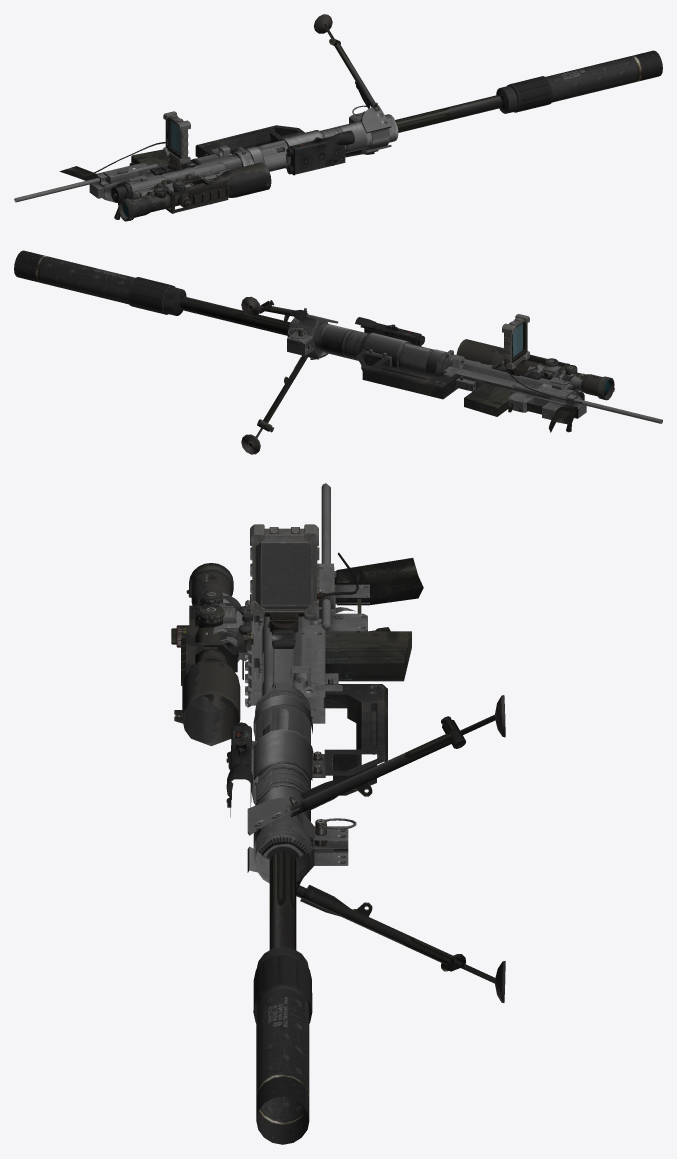
File: viewmodel_cheytac_orange_fall_LOD0.obj
The picture shows the model from 3 angles, top to bottom: view 1: azimuth 30°, elevation 25°; view 2: azimuth 150°, elevation 25°; view 3: azimuth 270°, elevation 25°; orthographic projection. The views are drawn at different scales.
Visible parts, largest first — view 1: mtl_weapon_cheytac_orange_fall, mtl_weapon_suppressor_b, mtl_weapon_scope01, mtl_weapon_laser_point, mtl_weapon_motion_tracker_orange_fall; view 2: mtl_weapon_cheytac_orange_fall, mtl_weapon_suppressor_b, mtl_weapon_scope01, mtl_weapon_motion_tracker_orange_fall, mtl_weapon_laser_point; view 3: mtl_weapon_cheytac_orange_fall, mtl_weapon_suppressor_b, mtl_weapon_scope01, mtl_weapon_motion_tracker_orange_fall, mtl_weapon_laser_point, mtl_weapon_thermal_sight_2_orange_fall.
Part boxes in pixels (left/top/right/bottom): mtl_weapon_cheytac_orange_fall: left=14, top=14, right=502, bottom=219; mtl_weapon_suppressor_b: left=496, top=50, right=662, bottom=113; mtl_weapon_scope01: left=128, top=162, right=271, bottom=220; mtl_weapon_laser_point: left=286, top=130, right=354, bottom=175; mtl_weapon_motion_tracker_orange_fall: left=85, top=111, right=200, bottom=177; mtl_weapon_cheytac_orange_fall: left=180, top=296, right=662, bottom=454; mtl_weapon_suppressor_b: left=14, top=250, right=186, bottom=315; mtl_weapon_scope01: left=456, top=339, right=614, bottom=396; mtl_weapon_motion_tracker_orange_fall: left=491, top=314, right=582, bottom=403; mtl_weapon_laser_point: left=355, top=317, right=424, bottom=346; mtl_weapon_cheytac_orange_fall: left=245, top=483, right=505, bottom=1002; mtl_weapon_suppressor_b: left=253, top=946, right=312, bottom=1144; mtl_weapon_scope01: left=171, top=570, right=253, bottom=746; mtl_weapon_motion_tracker_orange_fall: left=250, top=524, right=358, bottom=648; mtl_weapon_laser_point: left=226, top=722, right=252, bottom=817; mtl_weapon_thermal_sight_2_orange_fall: left=213, top=595, right=253, bottom=662.
Size of the model in its own units: 170 by 39.16 by 38.93.
